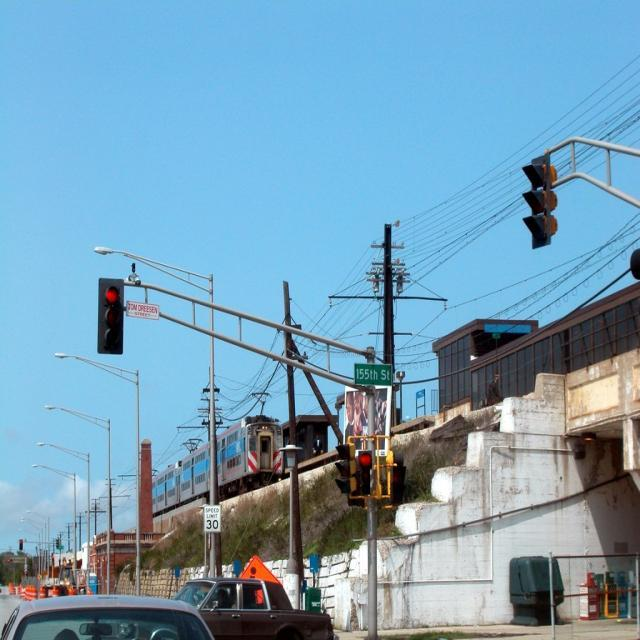off traffic light: (523, 154, 554, 248), (336, 443, 357, 493)
traffic light: (98, 278, 123, 352), (356, 449, 372, 494)
